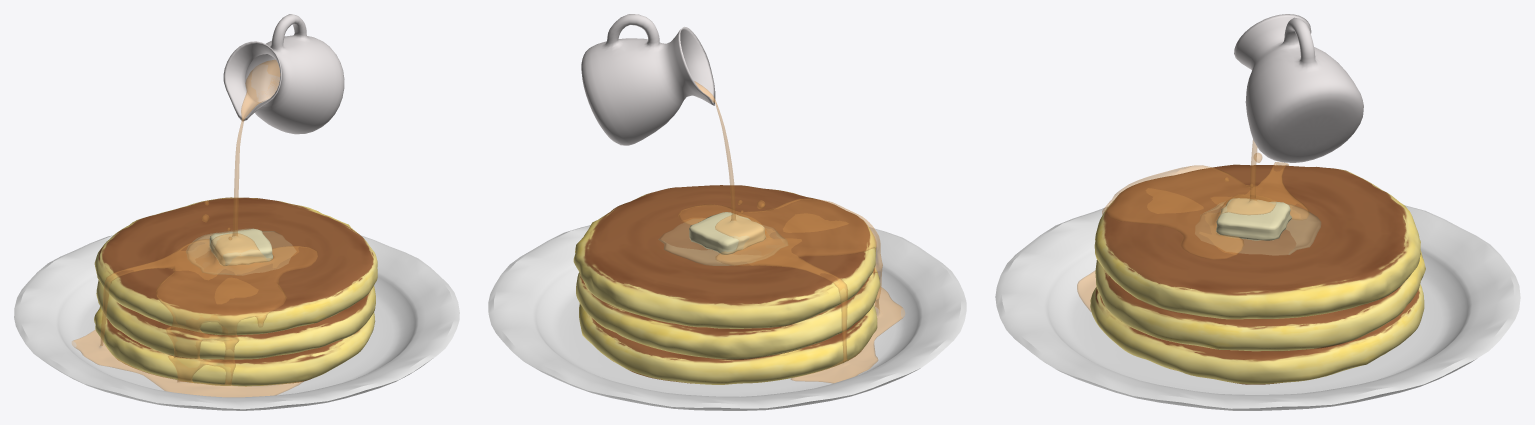
3 views of the same model, side by side, from view 1: azimuth 30°, elevation 25°; view 2: azimuth 150°, elevation 25°; view 3: azimuth 270°, elevation 25° (orthographic). The views are drawn at different scales.
Visible parts, largest first — view 1: PanCake.003, Dish, Honey, HoneyPot, PanCake.002, PanCake.001, Butter Melt, Butter; view 2: PanCake.003, Dish, Honey, HoneyPot, PanCake.002, PanCake.001, Butter Melt, Butter; view 3: PanCake.003, Dish, HoneyPot, Honey, PanCake.002, PanCake.001, Butter Melt, Butter.
Part boxes in pixels (bbox=[...]): PanCake.003: bbox=[94, 197, 377, 335]; Dish: bbox=[14, 235, 459, 410]; Honey: bbox=[72, 60, 317, 396]; HoneyPot: bbox=[223, 14, 344, 134]; PanCake.002: bbox=[96, 280, 375, 359]; PanCake.001: bbox=[94, 306, 375, 386]; Butter Melt: bbox=[186, 228, 295, 275]; Butter: bbox=[209, 228, 272, 266]; PanCake.003: bbox=[573, 185, 875, 328]; Dish: bbox=[488, 225, 966, 410]; Honey: bbox=[678, 81, 904, 383]; HoneyPot: bbox=[581, 14, 715, 145]; PanCake.002: bbox=[576, 267, 880, 359]; PanCake.001: bbox=[579, 303, 877, 384]; Butter Melt: bbox=[658, 219, 787, 265]; Butter: bbox=[689, 212, 765, 254]; PanCake.003: bbox=[1094, 164, 1420, 319]; Dish: bbox=[995, 205, 1520, 410]; HoneyPot: bbox=[1234, 14, 1363, 162]; Honey: bbox=[1077, 140, 1309, 311]; PanCake.002: bbox=[1095, 250, 1425, 351]; PanCake.001: bbox=[1090, 284, 1424, 384]; Butter Melt: bbox=[1195, 202, 1321, 255]; Butter: bbox=[1216, 198, 1291, 240].
Bounding box in the file's own units: 1.97 × 1.48 × 1.97.
Materials: 6 (1 with a texture image).
